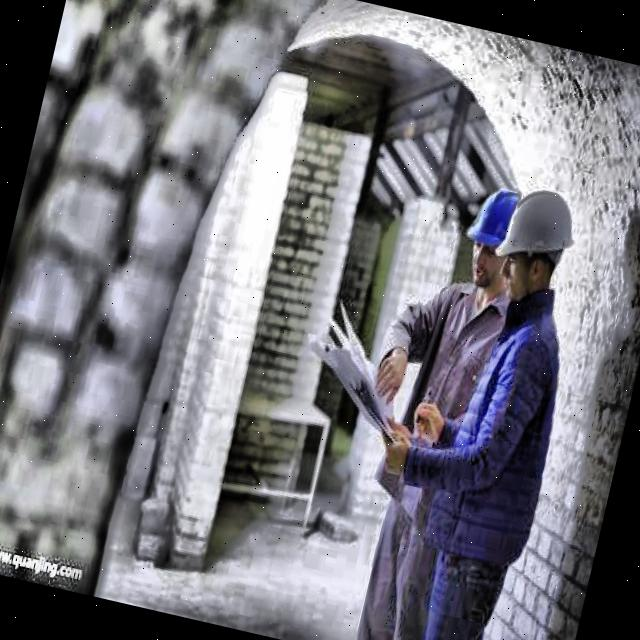helmet: (484, 180, 582, 314), (453, 180, 538, 302)
